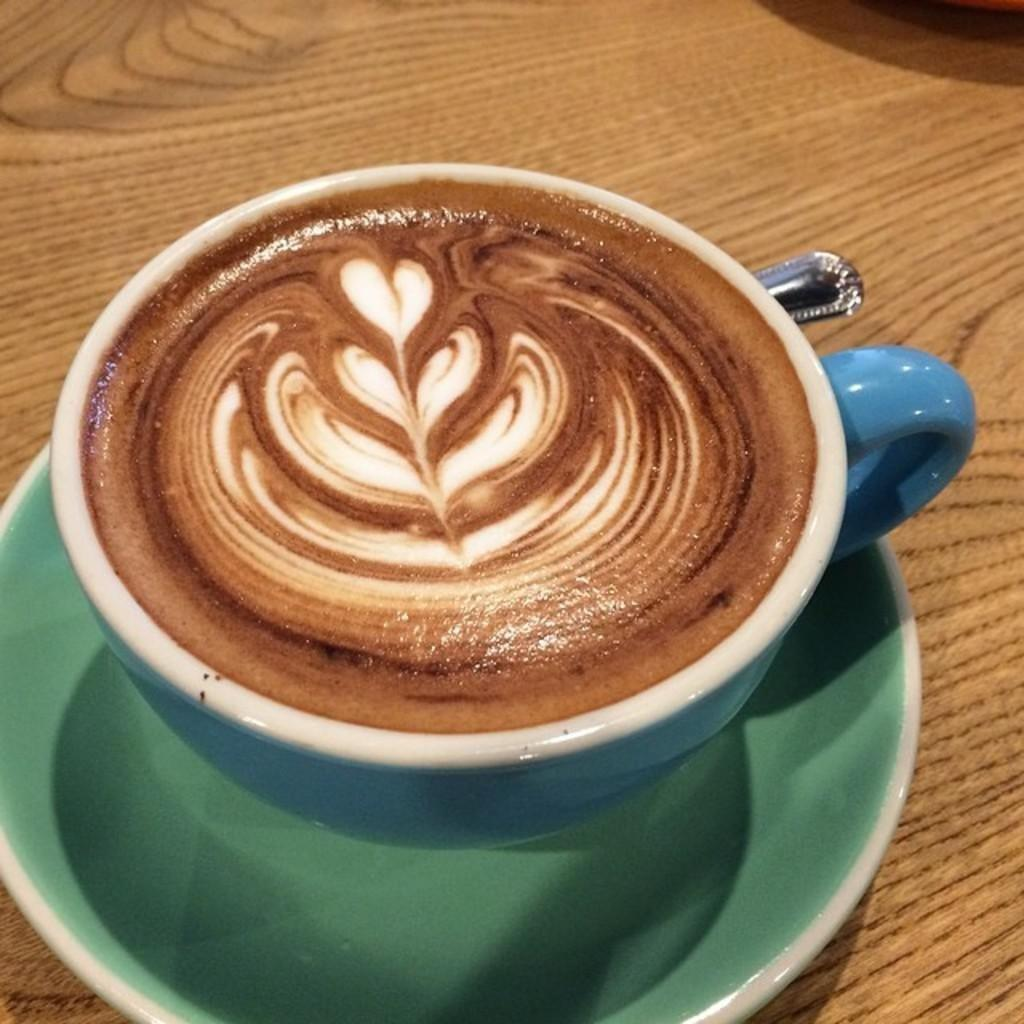cup-handle: (42, 159, 985, 846)
